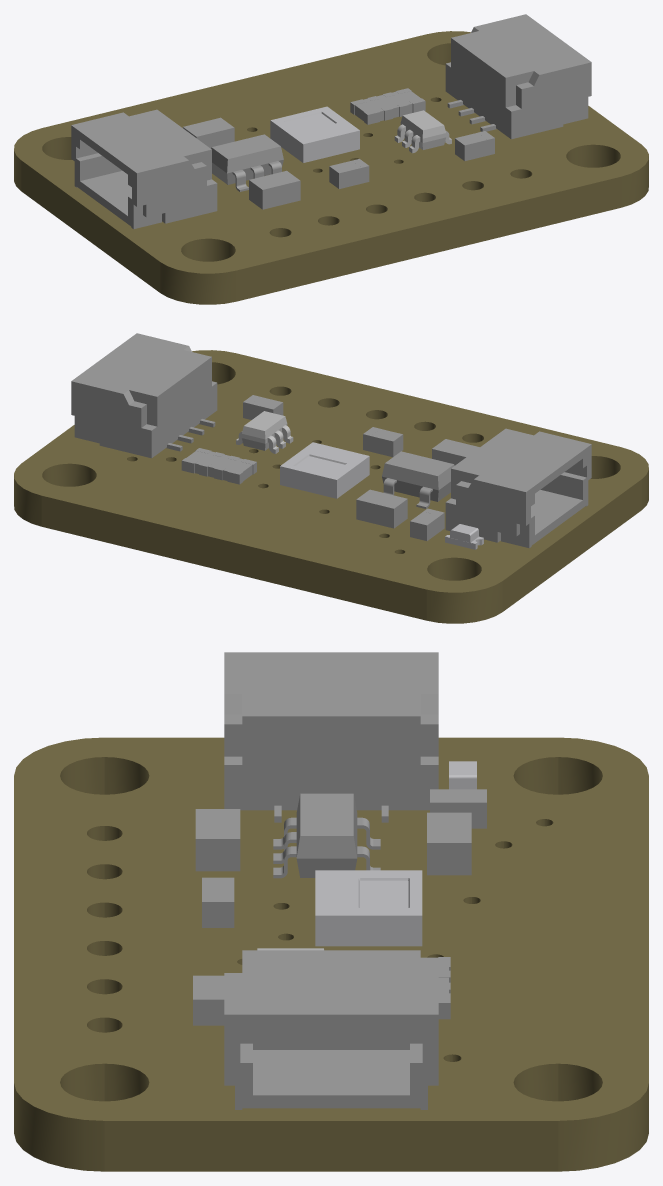
The model's file is ada-6403.glb.
The picture shows the model from 3 angles, top to bottom: view 1: azimuth 30°, elevation 25°; view 2: azimuth 150°, elevation 25°; view 3: azimuth 270°, elevation 25°; orthographic projection. The views are drawn at different scales.
Parts seen in each view (by area): view 1: 0.16666666666666666_0.16666666666666666_0.08333333333333333_, 0.3333333333333333_0.3333333333333333_0.3333333333333333_0, 0.5833333333333334_0.5833333333333334_0.5833333333333334_0.8, 0.5_0.5_0.5_0.85; view 2: 0.16666666666666666_0.16666666666666666_0.08333333333333333_, 0.3333333333333333_0.3333333333333333_0.3333333333333333_0, 0.5833333333333334_0.5833333333333334_0.5833333333333334_0.8, 0.5_0.5_0.5_0.85; view 3: 0.16666666666666666_0.16666666666666666_0.08333333333333333_, 0.3333333333333333_0.3333333333333333_0.3333333333333333_0, 0.5833333333333334_0.5833333333333334_0.5833333333333334_0.8.
Part boxes in pixels (x1,y1,x2,y2): 0.16666666666666666_0.16666666666666666_0.08333333333333333_: (14, 31, 648, 304); 0.3333333333333333_0.3333333333333333_0.3333333333333333_0: (71, 14, 591, 229); 0.5833333333333334_0.5833333333333334_0.5833333333333334_0.8: (270, 106, 359, 162); 0.5_0.5_0.5_0.85: (394, 110, 451, 153); 0.16666666666666666_0.16666666666666666_0.08333333333333333_: (14, 350, 648, 623); 0.3333333333333333_0.3333333333333333_0.3333333333333333_0: (71, 333, 591, 548); 0.5833333333333334_0.5833333333333334_0.5833333333333334_0.8: (280, 442, 483, 549); 0.5_0.5_0.5_0.85: (236, 411, 293, 453); 0.16666666666666666_0.16666666666666666_0.08333333333333333_: (14, 737, 648, 1171); 0.3333333333333333_0.3333333333333333_0.3333333333333333_0: (193, 652, 486, 1109); 0.5833333333333334_0.5833333333333334_0.5833333333333334_0.8: (315, 761, 476, 946).
Bounding box in the file's own units: 2.54 × 0.4529 × 1.78.
